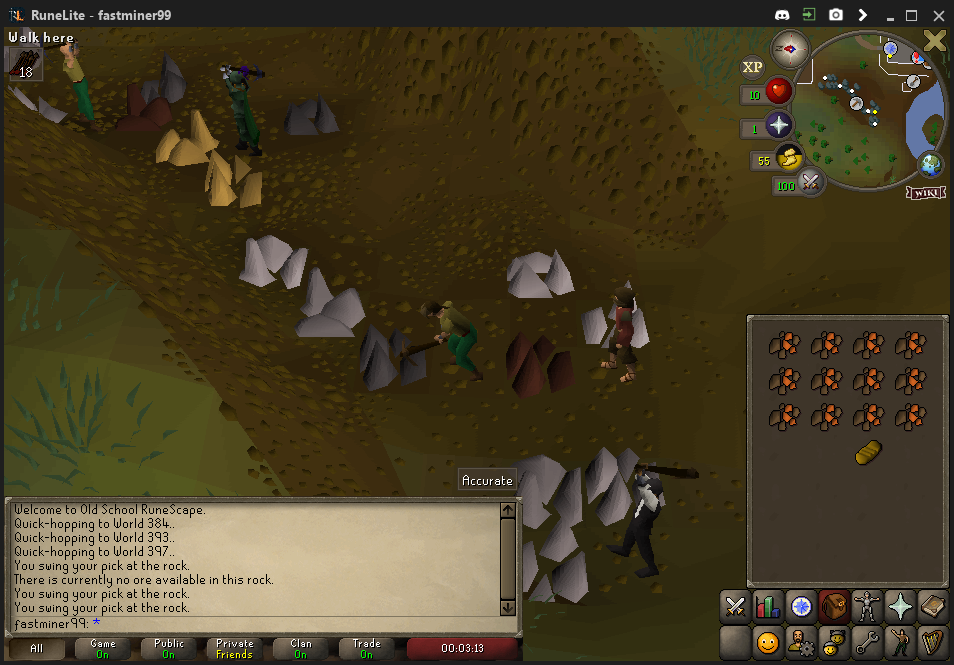depleted: (356, 319, 429, 389)
ore: (496, 328, 581, 399)
